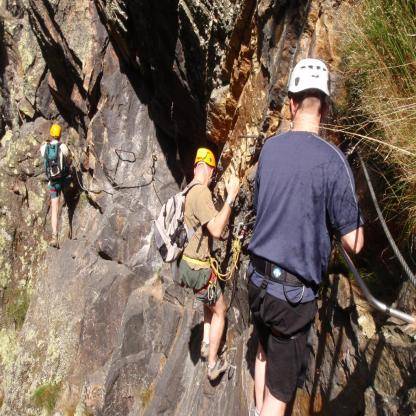Helmet: (286, 56, 332, 128), (194, 150, 221, 172), (49, 124, 63, 139)
